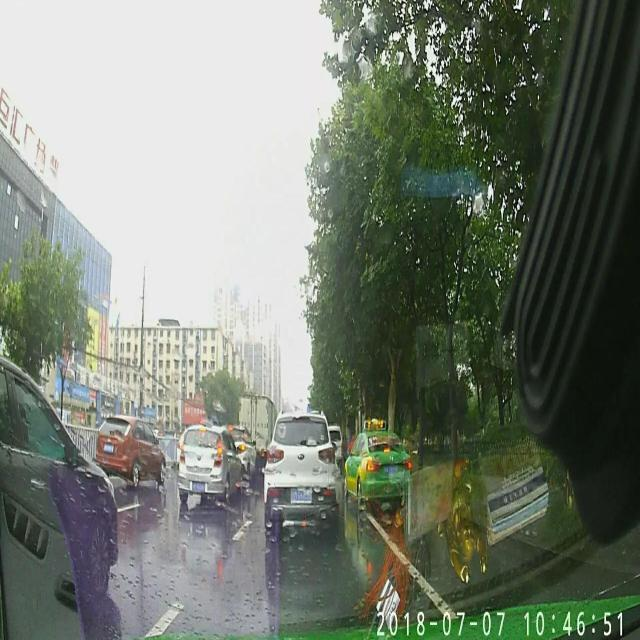car: (0, 356, 119, 593), (260, 410, 340, 540), (343, 419, 410, 511), (176, 424, 242, 504), (96, 412, 164, 484), (239, 395, 277, 466), (226, 424, 256, 480)
